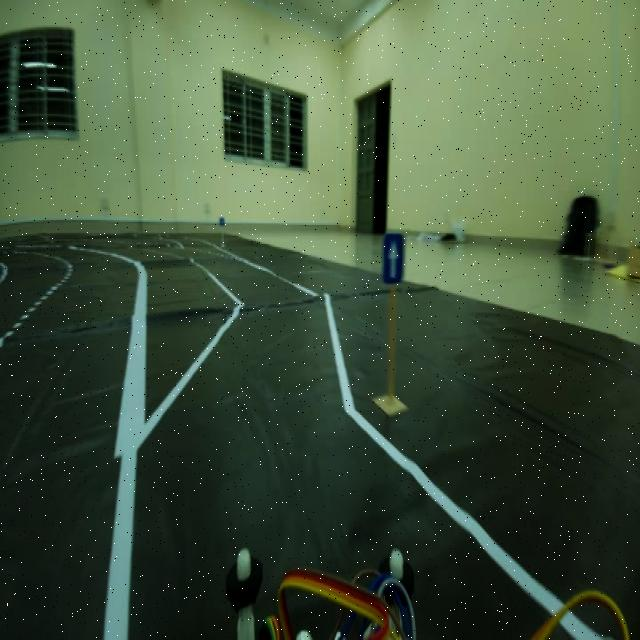onewayroad: (376, 224, 412, 291)
